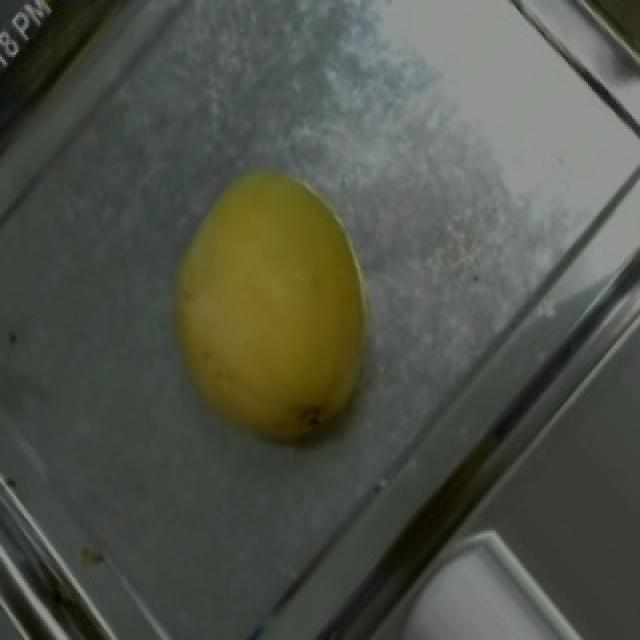fruit: (98, 127, 448, 491)
